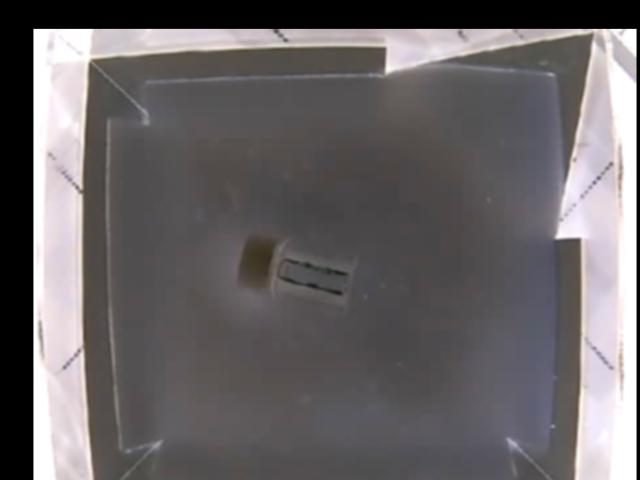Bottle: (235, 232, 354, 318)
